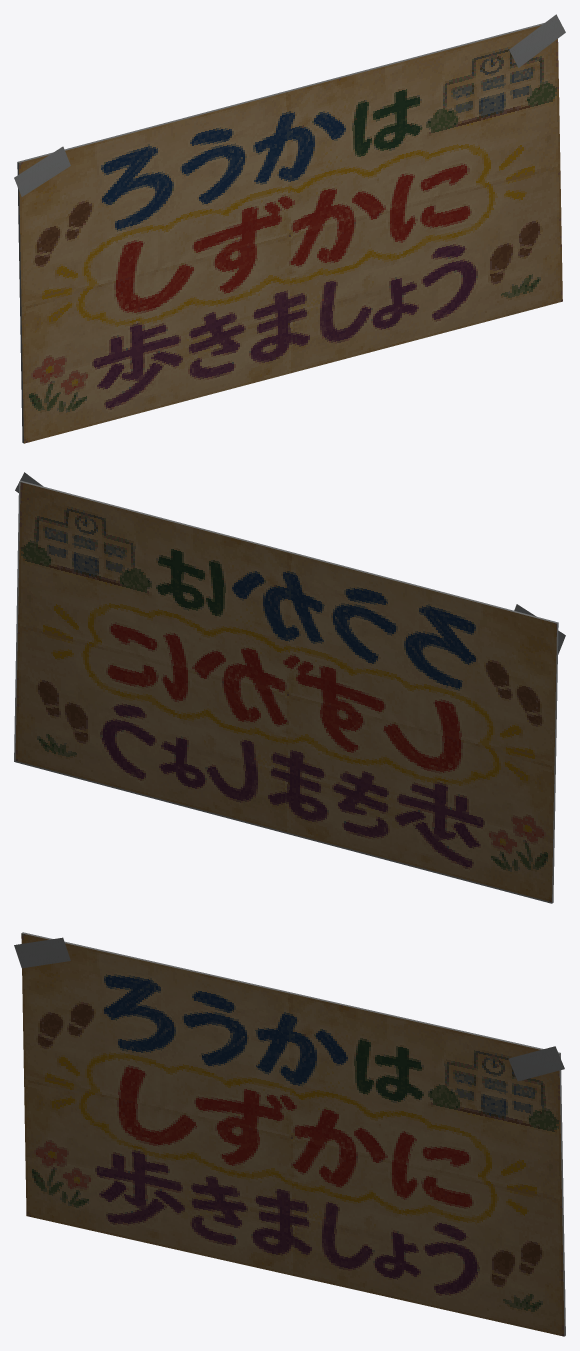
Rendered from prop_poster-rouka-5.glb.
3 renders of one model, top to bottom at view 1: azimuth 30°, elevation 25°; view 2: azimuth 150°, elevation 25°; view 3: azimuth 330°, elevation 25°, orthographic.
Parts seen in each view (by area): view 1: prop_poster-rouka-5; view 2: prop_poster-rouka-5; view 3: prop_poster-rouka-5.
Part boxes in pixels (x1,y1,x2,y2): prop_poster-rouka-5: (14,14,565,443); prop_poster-rouka-5: (14,472,565,903); prop_poster-rouka-5: (14,932,565,1336).
Bounding box in the file's own units: 0.6292 × 0.3276 × 0.0055.
2 materials, 2 textured.
